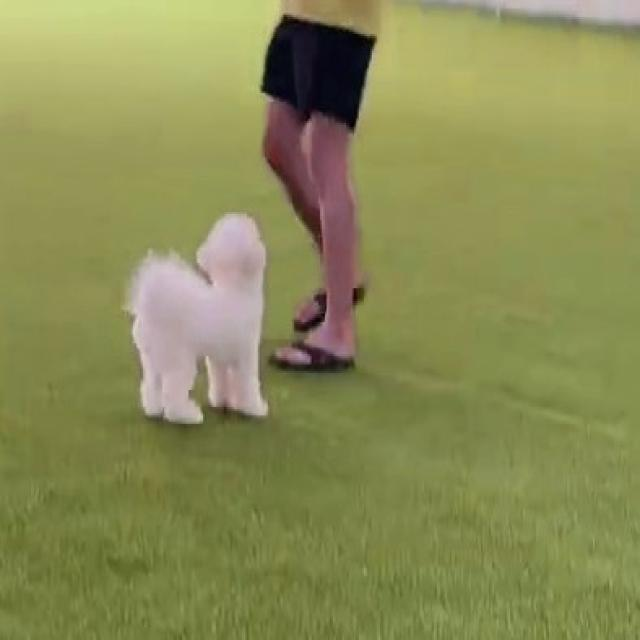Unleashed_Dog: (121, 212, 358, 424)
